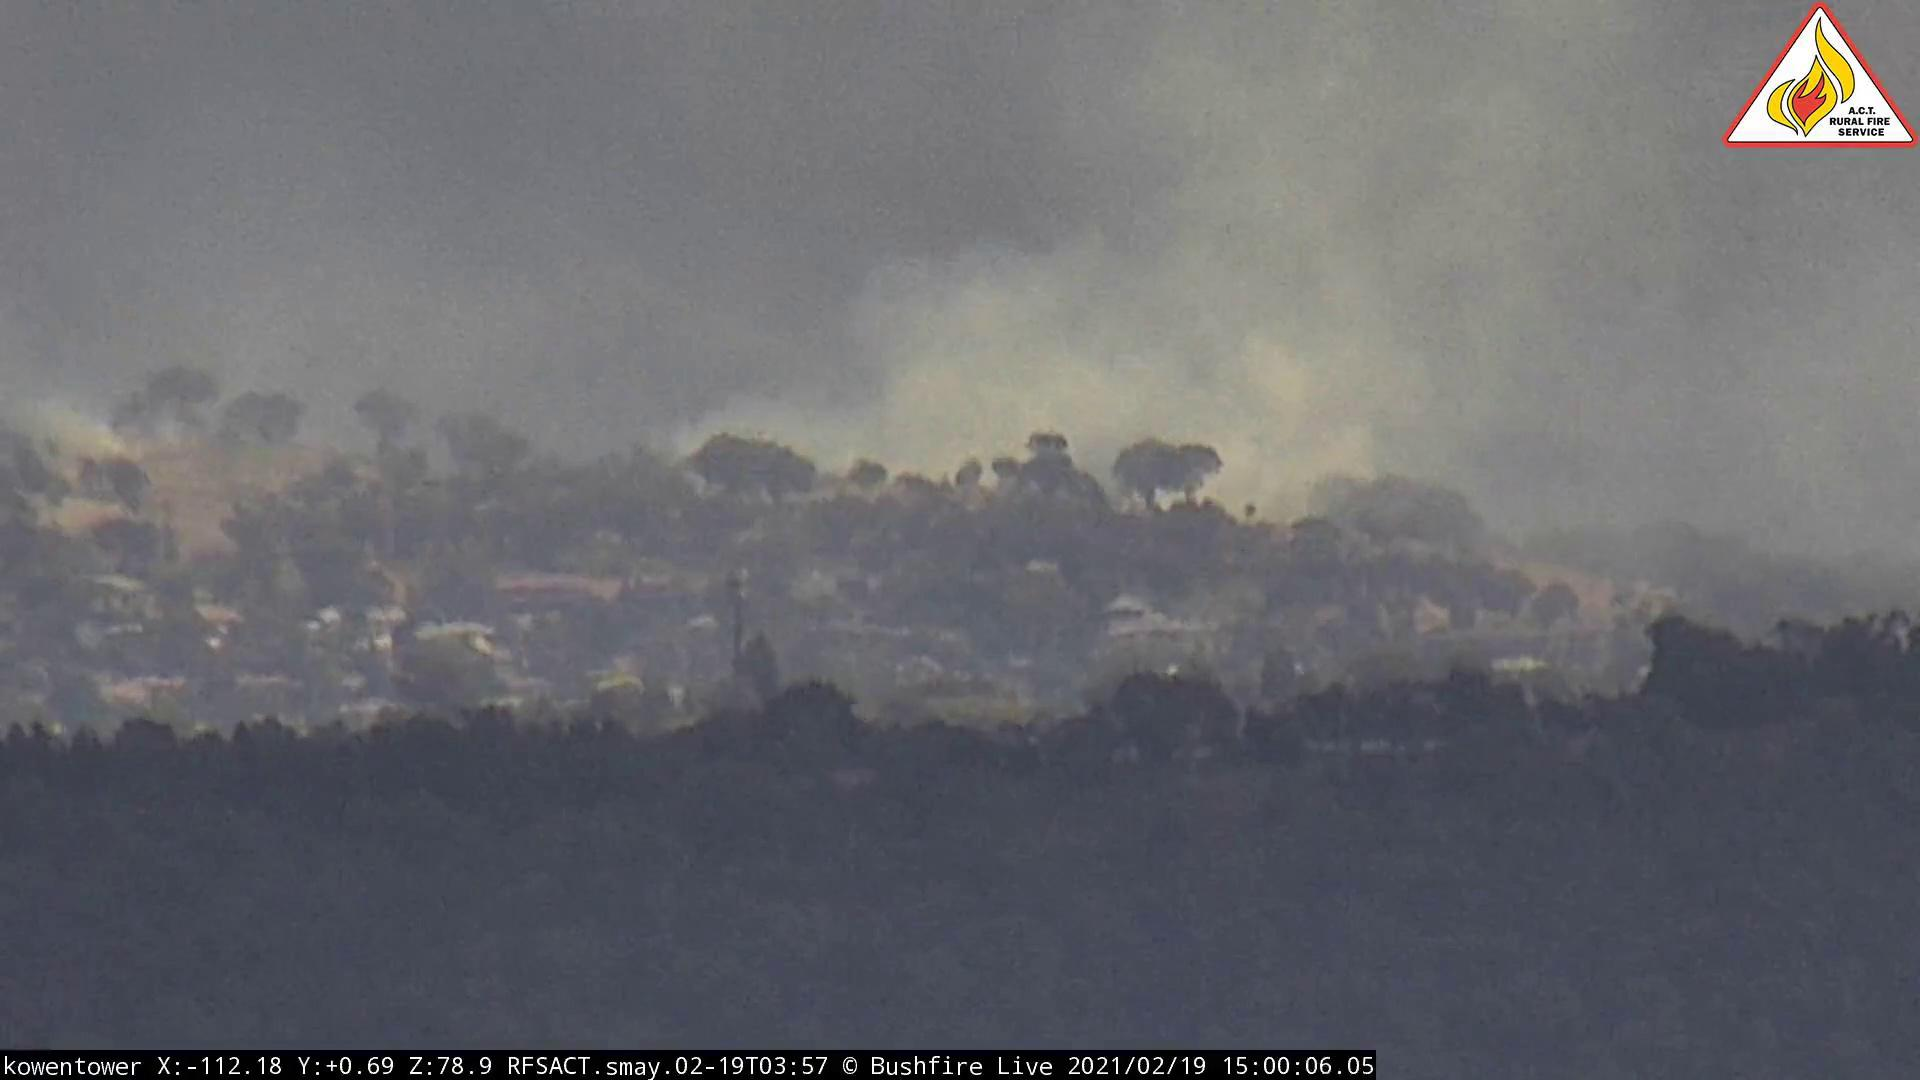instance_salient_object: (562, 13, 1712, 508)
